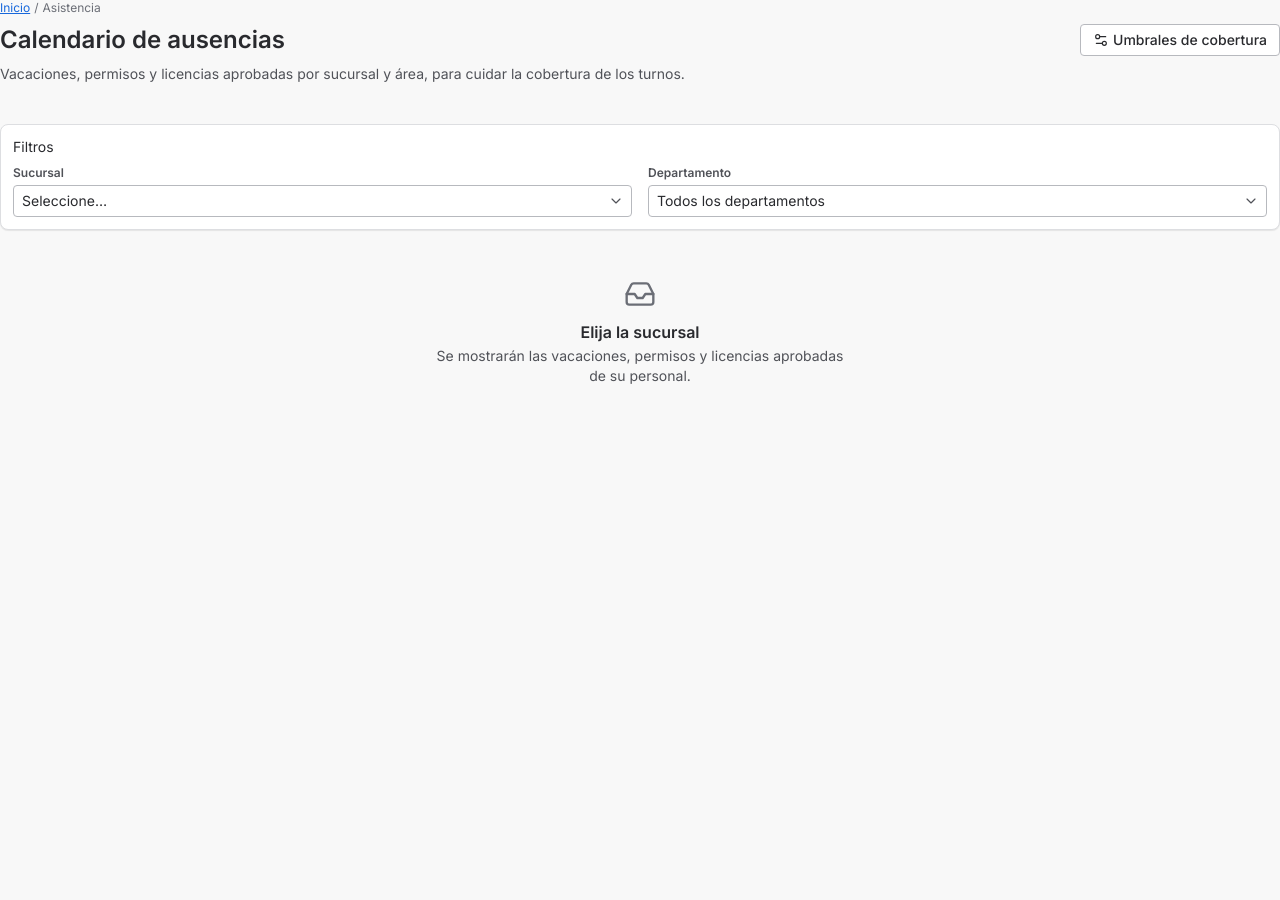
Test: Calendario de ausencias › criterio 4: al hacer clic en un bloque se ve el colaborador, su cargo, el tipo y el período aprobado
The image size is (1280, 900).
Select "Central" in the dropdown labelled "Sucursal" at (322, 201), box 13,185 -> 632,217
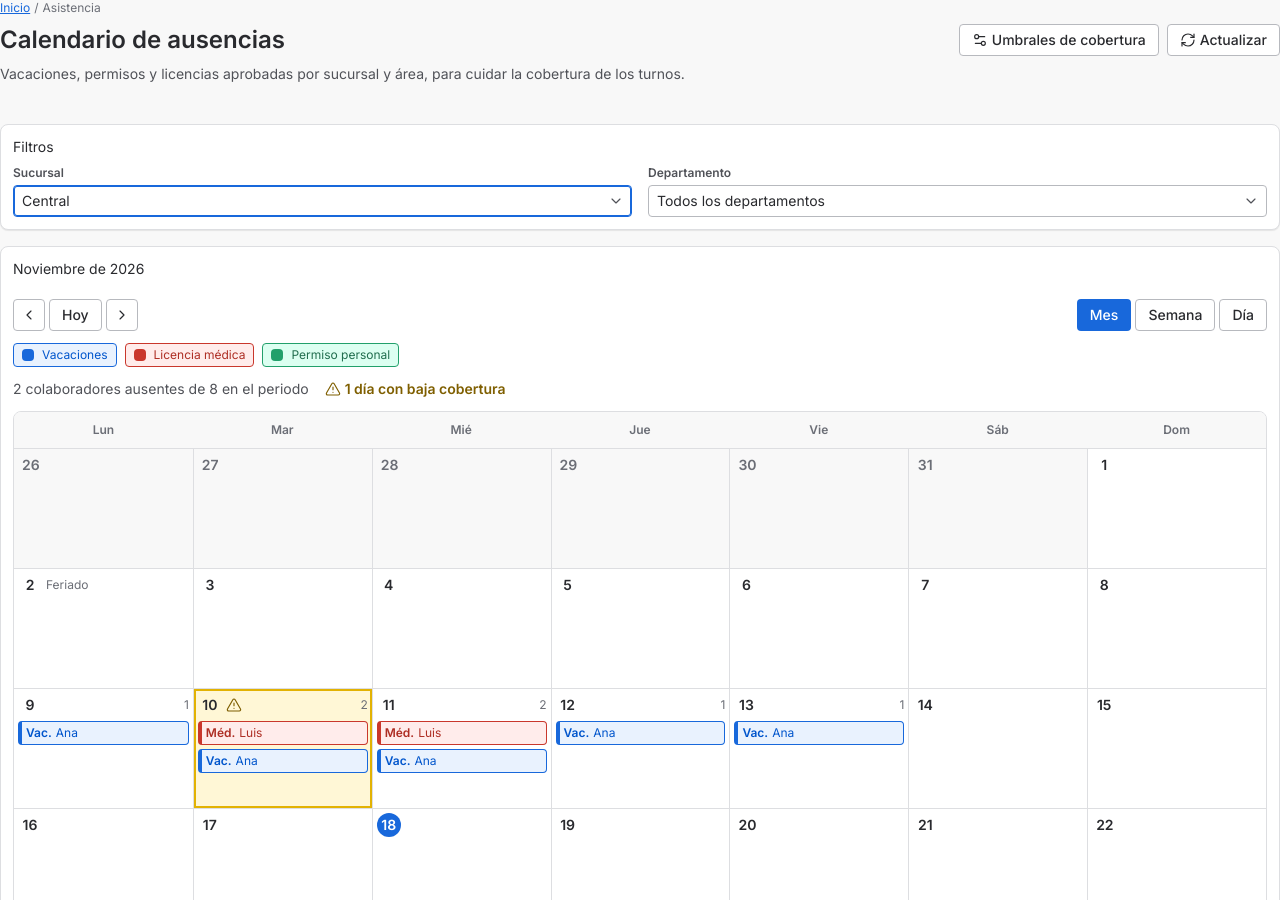
Click the button with aria-label "Ana Quispe, Vacaciones" at (103, 733), box 18,721 -> 189,745
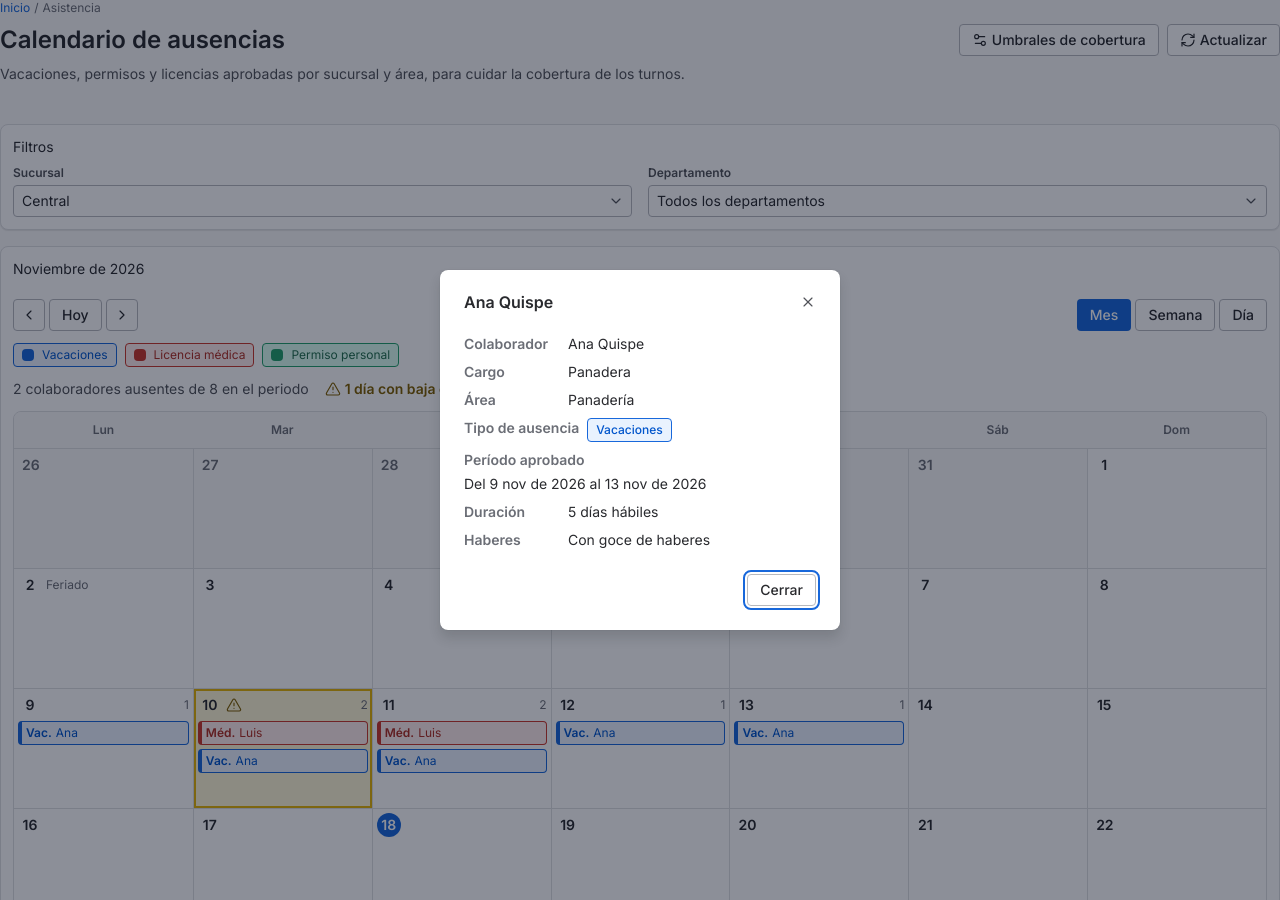
Check: the text "Ana Quispe" is shown, box 568,334 -> 644,354
Check: the text "Panadera" is shown, box 568,362 -> 631,382
Check: the text "Vacaciones" is shown, box 596,422 -> 663,438
